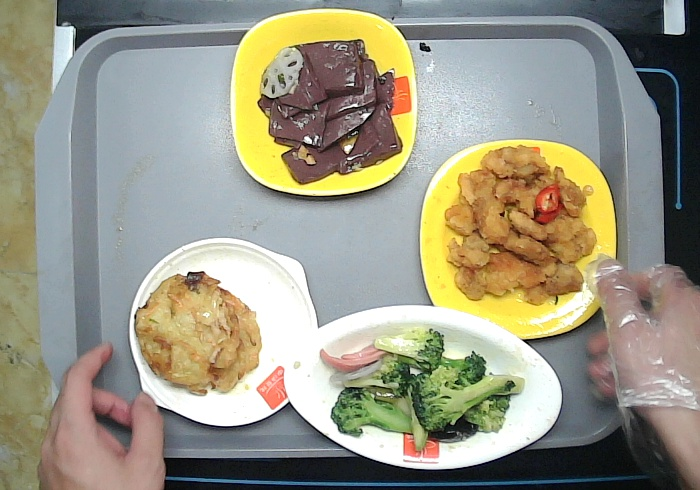SHKJ-Bao_Yu_Pan: (121, 230, 324, 431)
SHKJ-Huang_Se_Cai_Die: (225, 6, 423, 201)
SHKJ-Huang_Se_Si_Fang_Cai_Die: (414, 135, 624, 340)
SHKJ-Yu_Pan: (280, 300, 567, 475)
